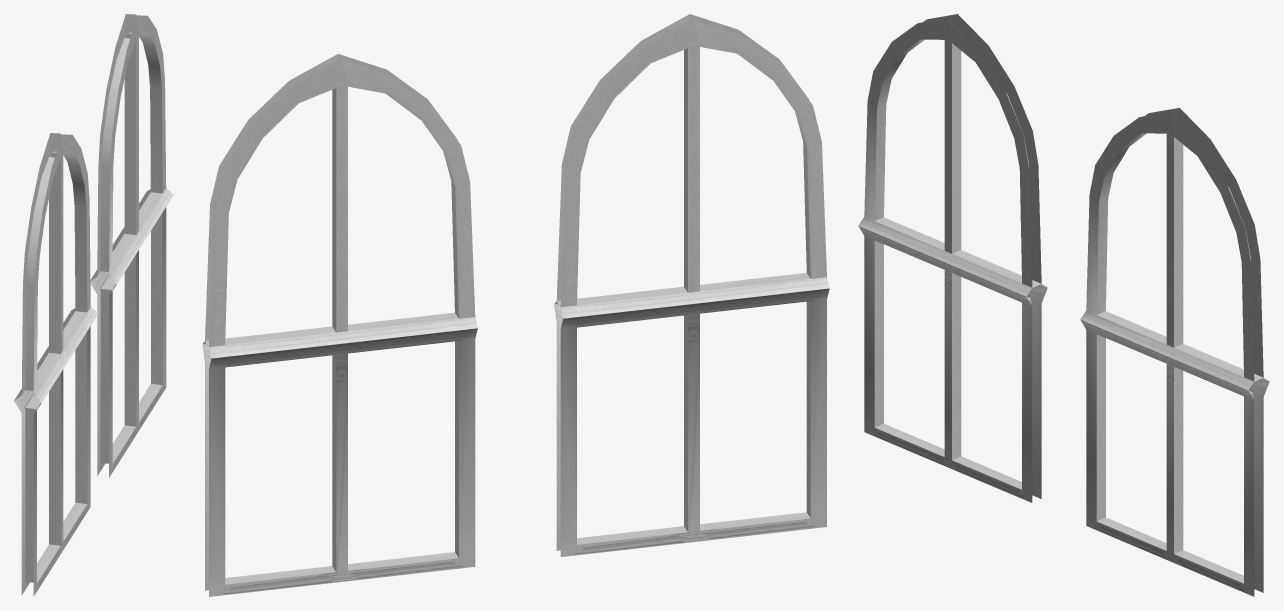
File: WindowRounded2Cdiag.fbx
3 views of the same model, side by side, from view 1: azimuth 30°, elevation 25°; view 2: azimuth 150°, elevation 25°; view 3: azimuth 270°, elevation 25° (orthographic). The views are drawn at different scales.
Visible parts, largest first — view 1: WindowRounded2Cdiag; view 2: WindowRounded2Cdiag; view 3: WindowRounded2Cdiag.
Part boxes in pixels (x1,y1,x2,y2): WindowRounded2Cdiag: [14, 14, 173, 596]; WindowRounded2Cdiag: [202, 14, 829, 596]; WindowRounded2Cdiag: [858, 14, 1269, 596].
Size of the model in its own units: 155 by 187 by 155.
